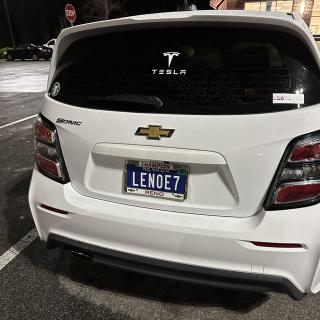license: (123, 160, 191, 203)
